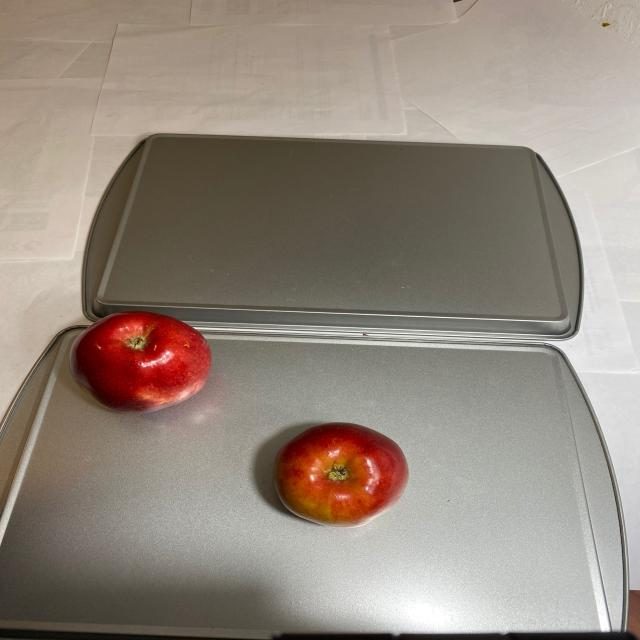apple: (68, 313, 213, 415), (271, 421, 409, 528)
